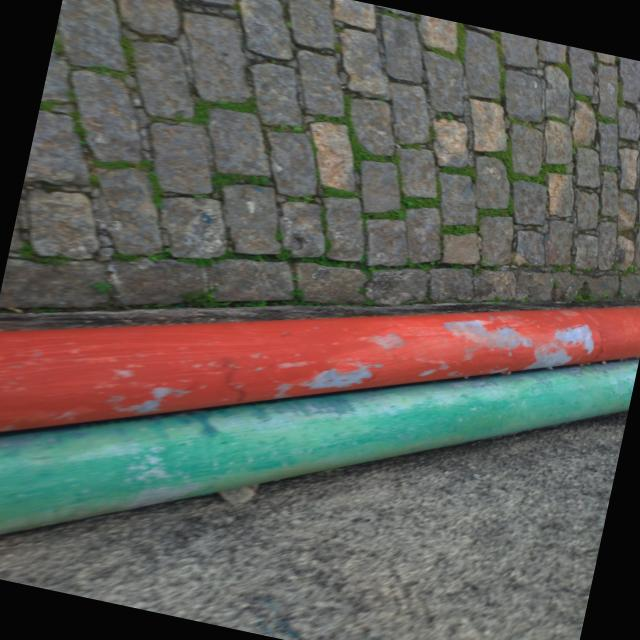gas: (0, 359, 639, 535), (0, 307, 640, 433)
